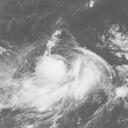cyclone: (34, 50, 85, 97)
